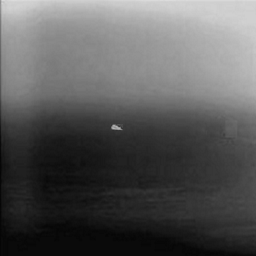Target: (110, 124, 124, 131)
